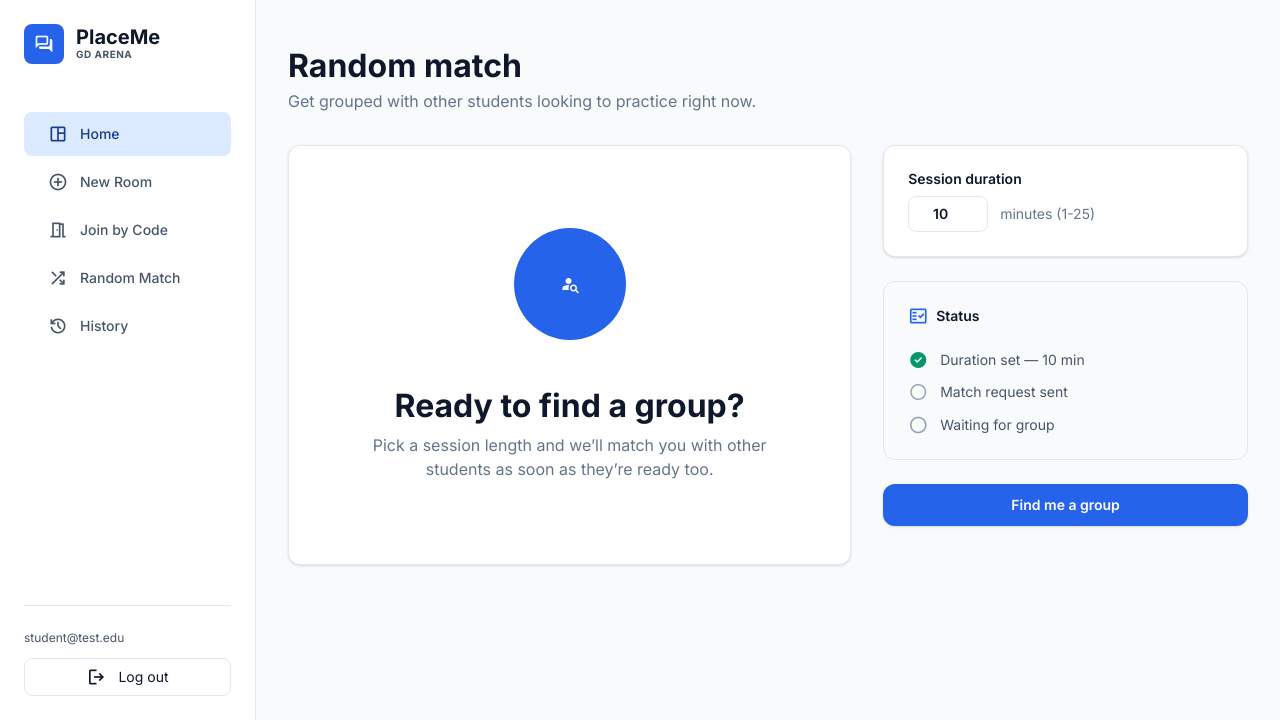
MatchPage button consistency › shows a spinner and busy label while requesting a match
Click the button "Find me a group". click: (1066, 505)
box: [883,484,1248,526]
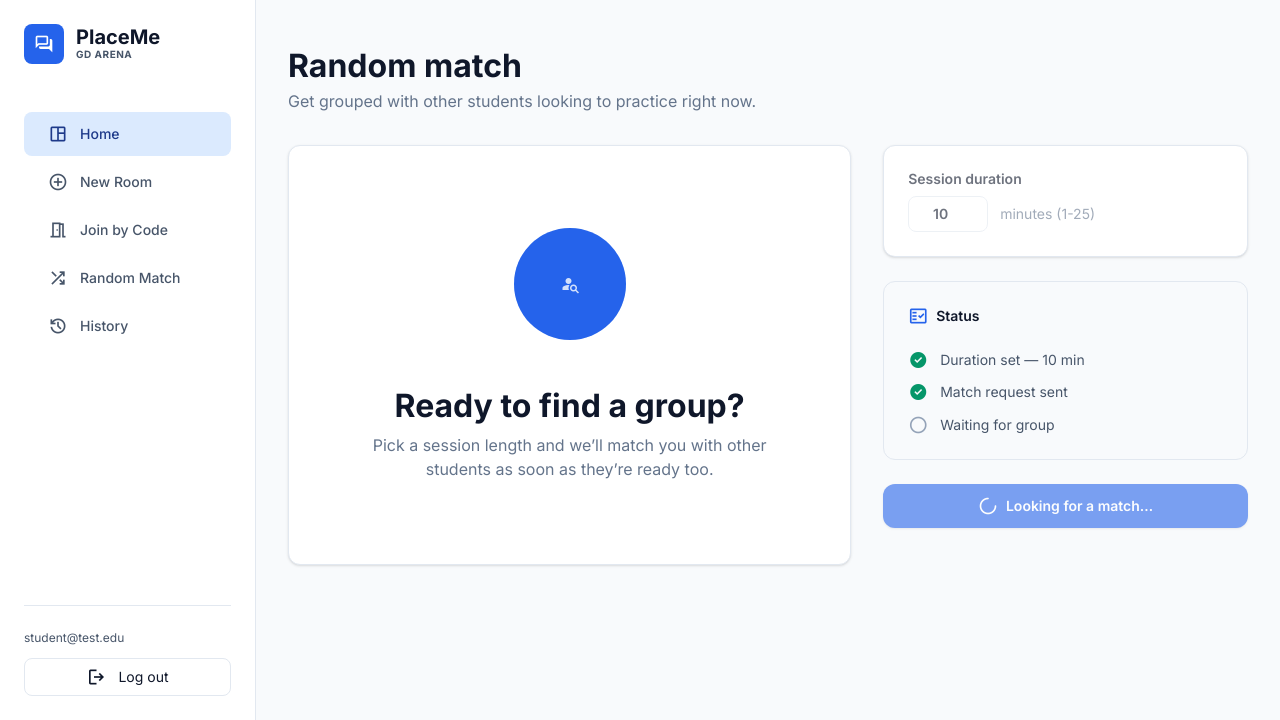
Check: the text "Looking for a match…" is shown, box [978,496,1153,516]
Check: the 11th text "progress_activity" is shown, box [978,494,998,518]
